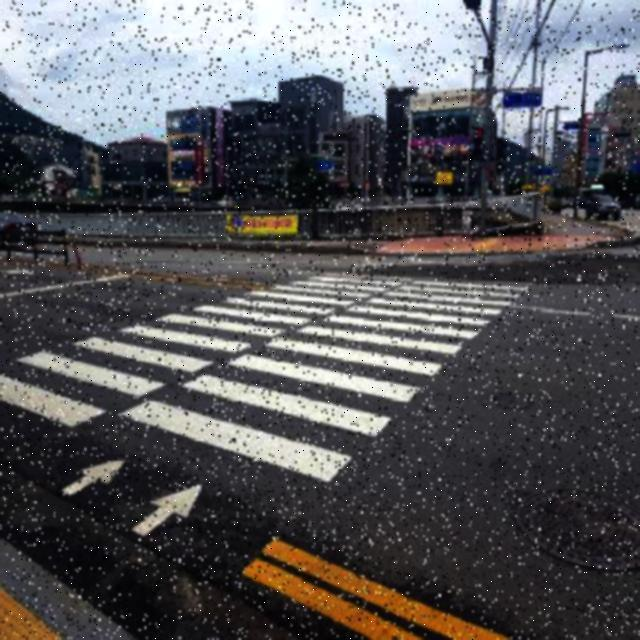crosswalk: (124, 279, 529, 491), (9, 268, 417, 428)
